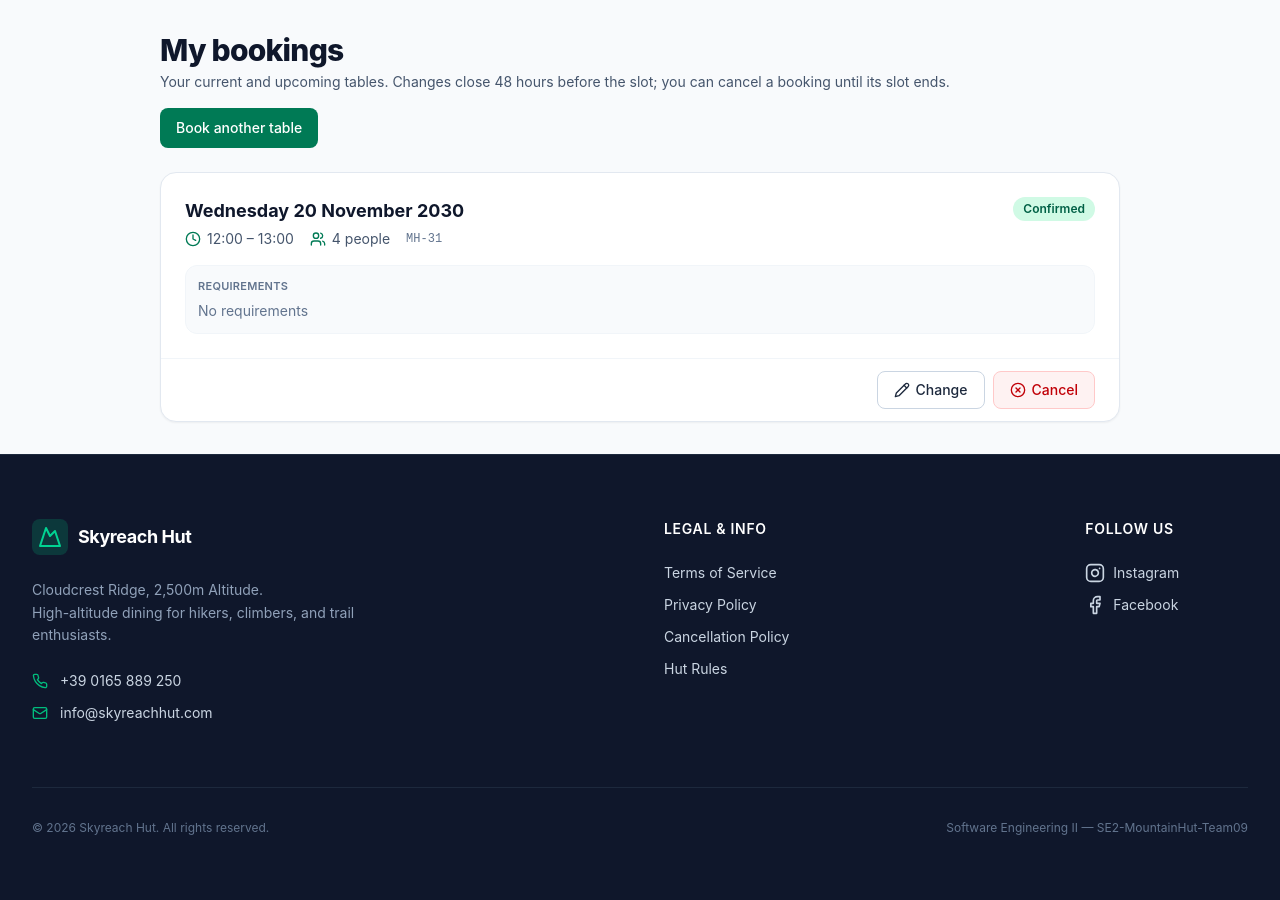
Test: MyBookings – cancel a booking (MH-08) › asks for confirmation and does nothing when the hiker keeps the booking
Click the button with aria-label "Cancel booking MH-". click: (1044, 390)
box: [992,370,1095,408]
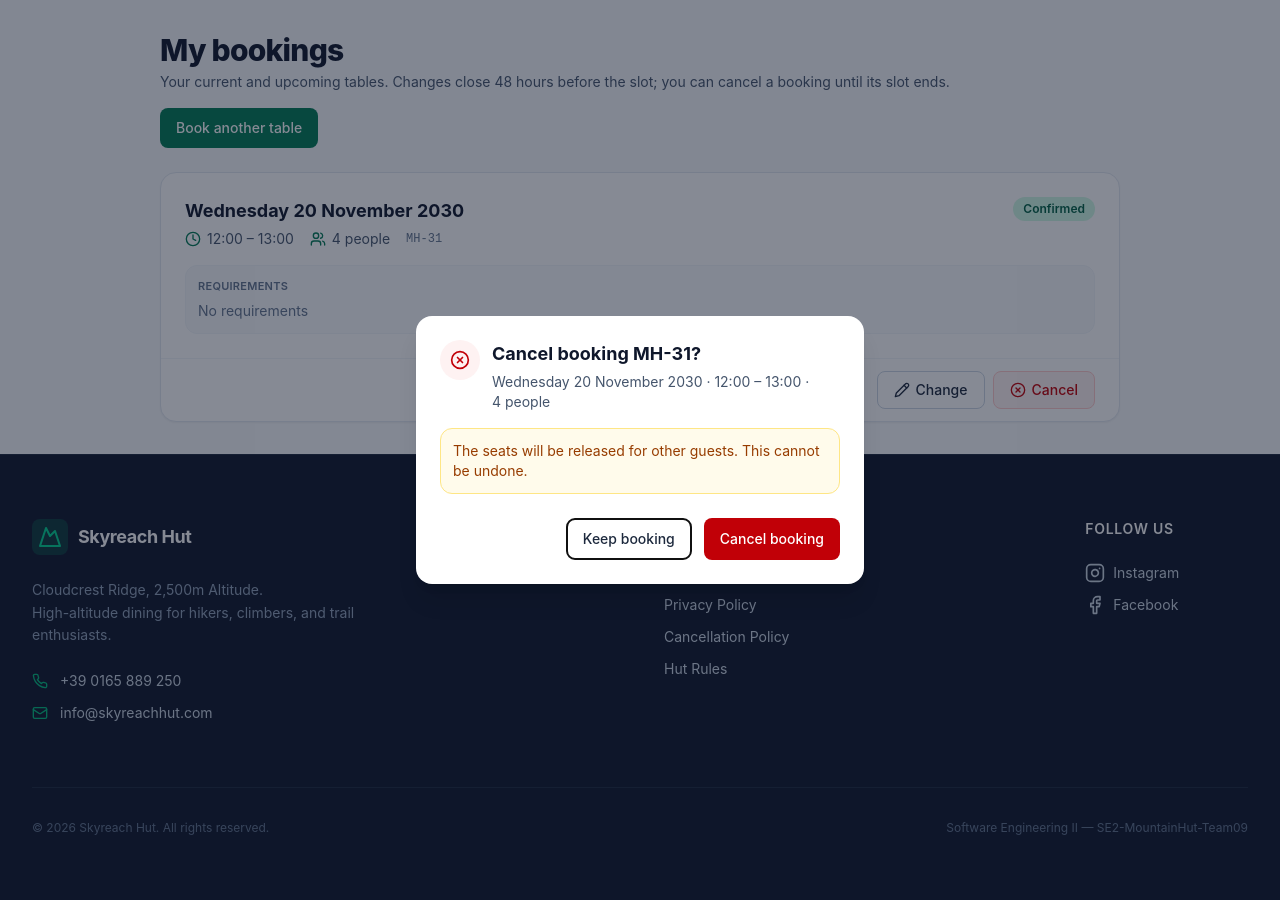
Click the button "Keep booking". click: (629, 539)
box: [566,518,692,560]
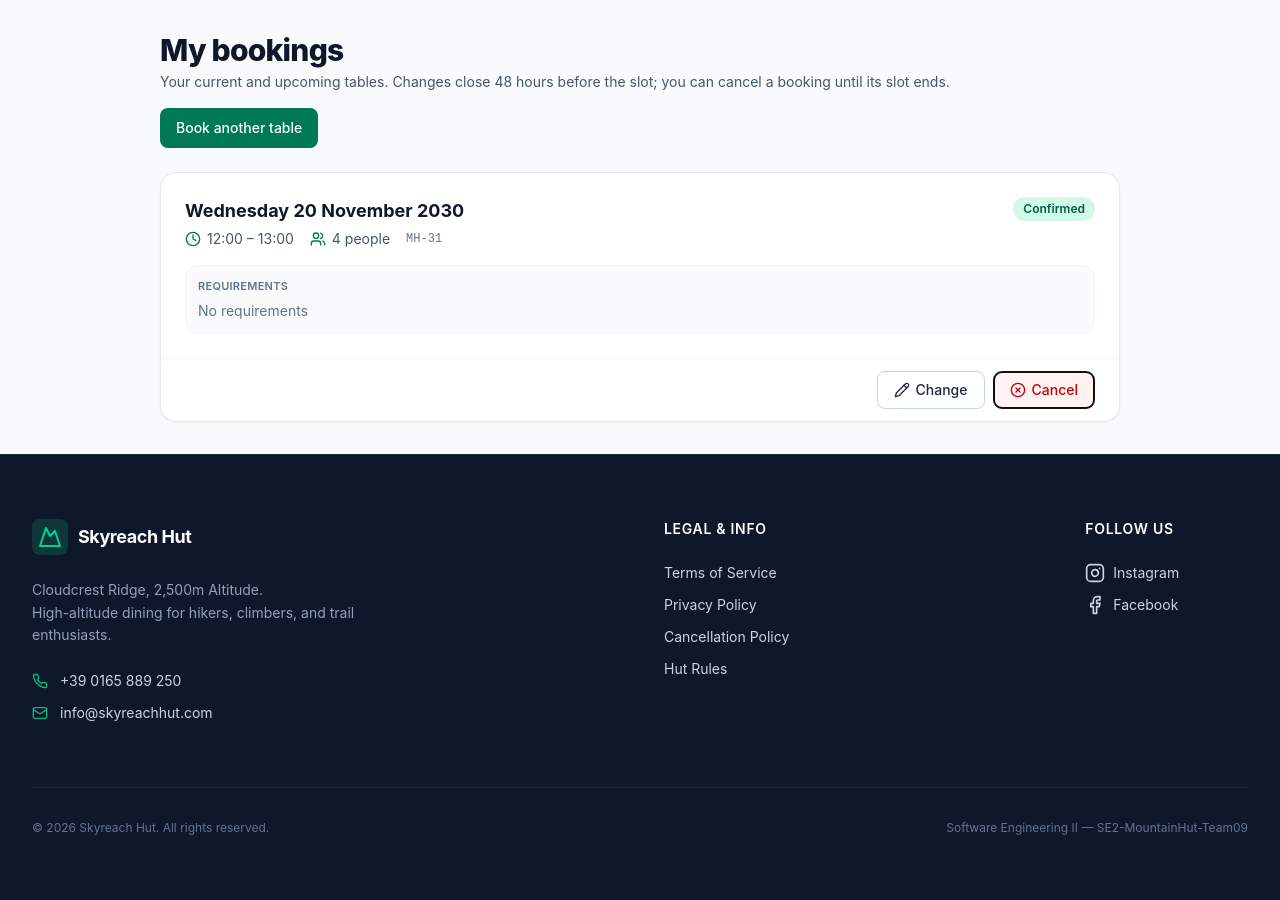
Check: the list item with test id "booking-31" shows "Confirmed", box [1023,201,1085,216]
Check: the dialog is gone
